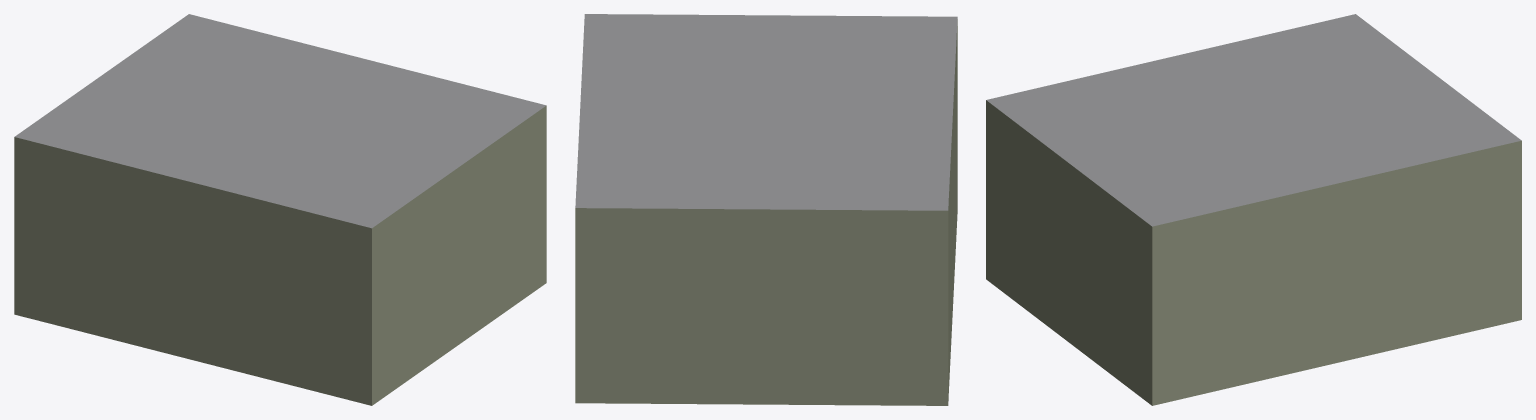
The model's file is nyc-1024708-0.glb.
3 renders of one model, left to right at view 1: azimuth 30°, elevation 25°; view 2: azimuth 150°, elevation 25°; view 3: azimuth 270°, elevation 25°, orthographic. The views are drawn at different scales.
Visible parts, largest first — view 1: nyc-1024708-0; view 2: nyc-1024708-0; view 3: nyc-1024708-0.
Part boxes in pixels (left/top/right/bottom): nyc-1024708-0: left=14, top=14, right=546, bottom=405; nyc-1024708-0: left=575, top=14, right=957, bottom=405; nyc-1024708-0: left=986, top=14, right=1521, bottom=405.
Size of the model in its own units: 34.76 by 13.67 by 37.02.
